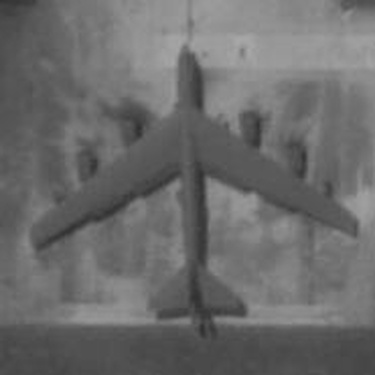airplane: (19, 33, 363, 348)
